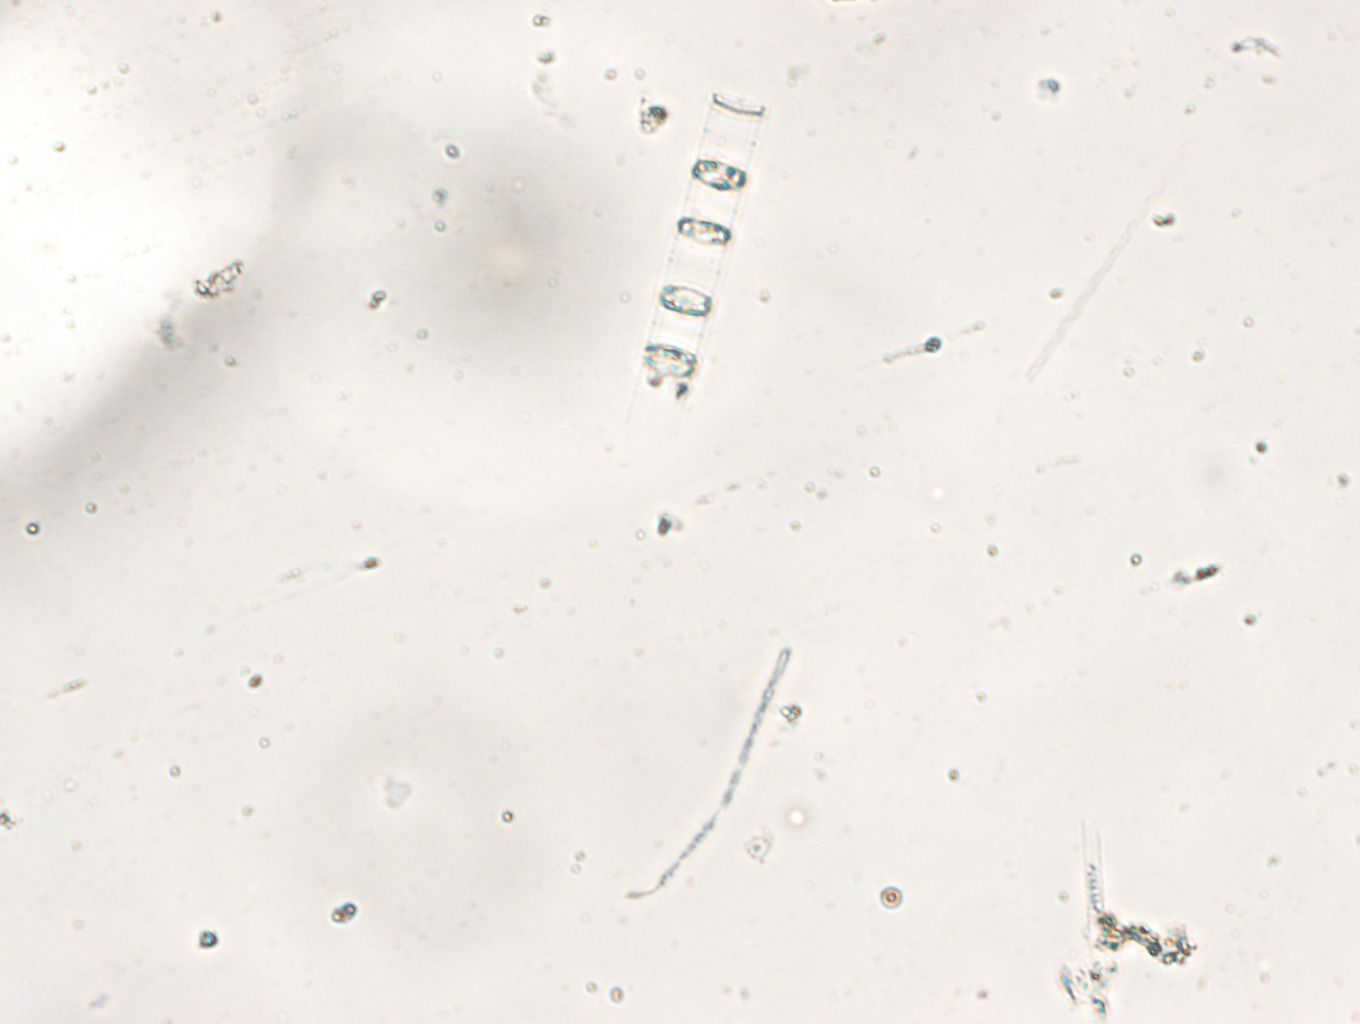skeletonema: (622, 93, 765, 424)
